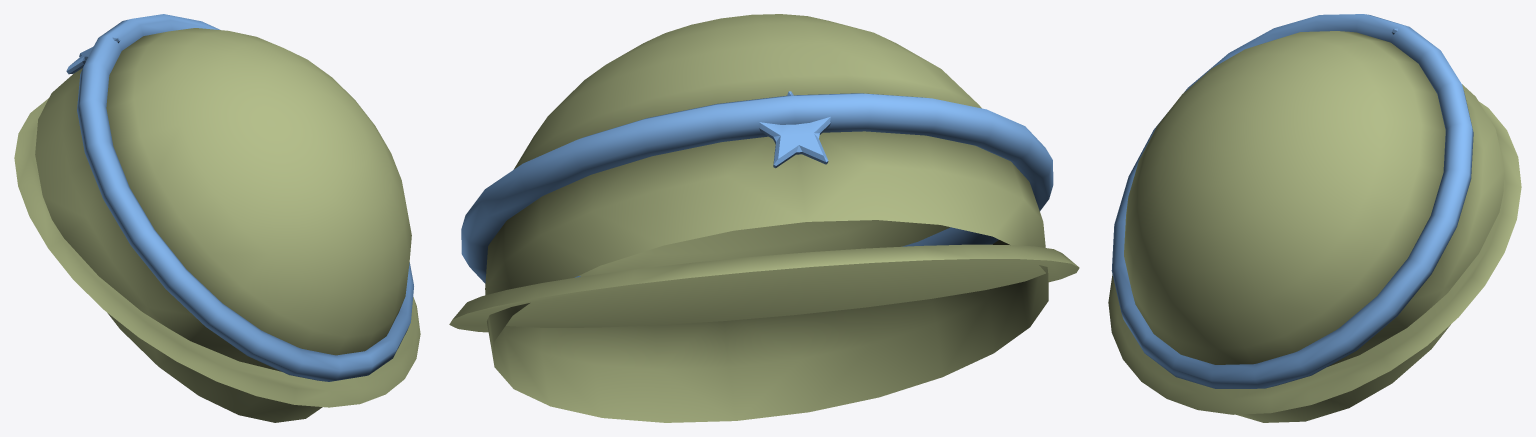
Rendered from army_helmet_blue.fbx.
The picture shows the model from 3 angles, left to right: view 1: azimuth 30°, elevation 25°; view 2: azimuth 150°, elevation 25°; view 3: azimuth 270°, elevation 25°; orthographic projection. The views are drawn at different scales.
Visible parts, largest first — view 1: army_helmet_blue; view 2: army_helmet_blue; view 3: army_helmet_blue.
Part boxes in pixels (x1=…): army_helmet_blue: x1=14, y1=14, x2=420, y2=422; army_helmet_blue: x1=449, y1=14, x2=1079, y2=422; army_helmet_blue: x1=1108, y1=14, x2=1521, y2=422.
Size of the model in its own units: 1.38 by 1.17 by 1.35.
